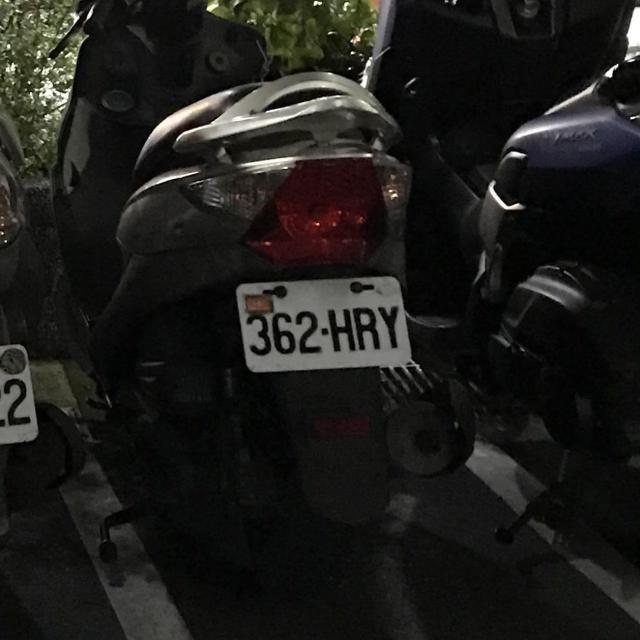W: (230, 259, 418, 385), (0, 335, 46, 470)
